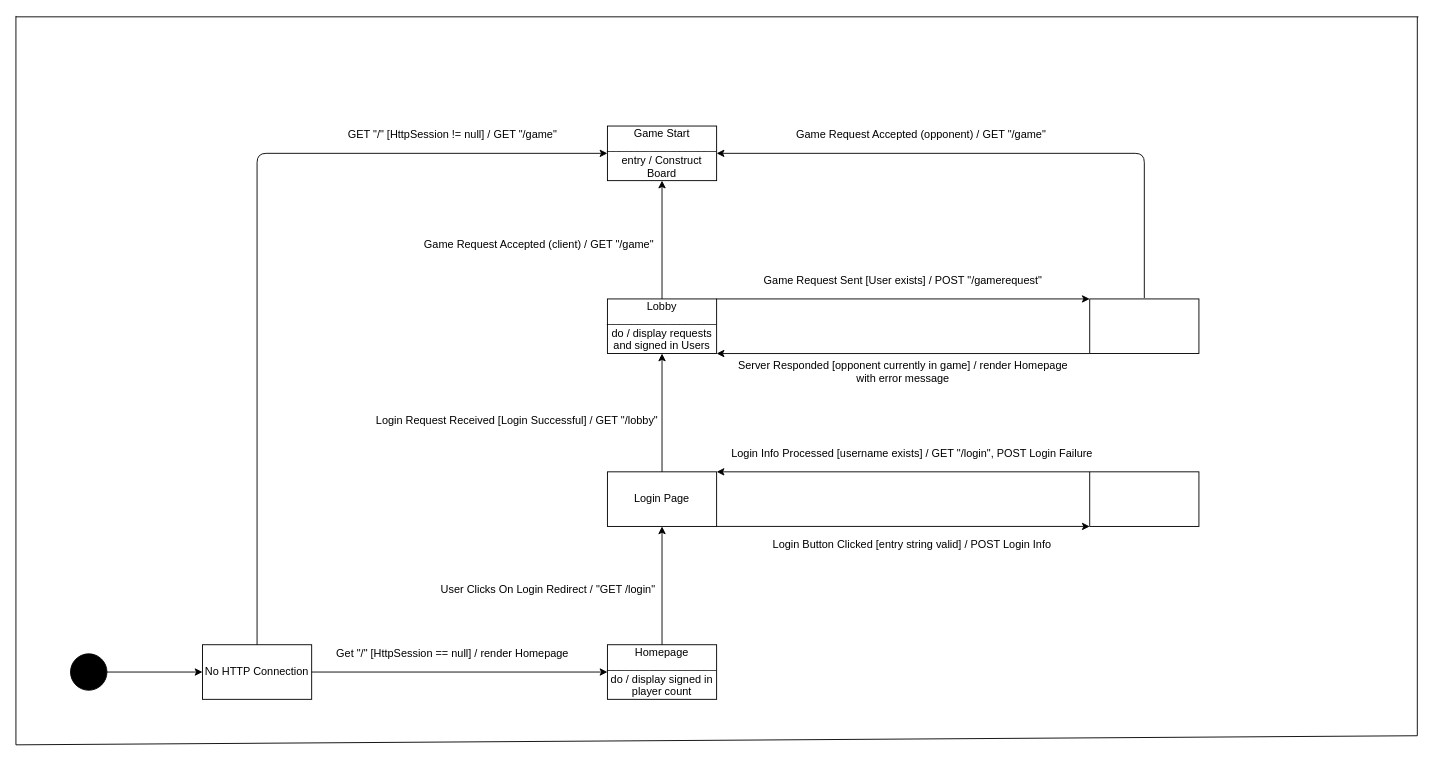
Image size: 1436x762. Some labels were removed from this diagram. The shapes that lost their labels are listed below. From the top down, each one's centre as x and y in pixels, then its label:
At point (1144, 326): "Game Request Sent __________________ do / await request acceptance".
At point (1144, 498): "Processing Login Request __________________ entry / check if username exists".
